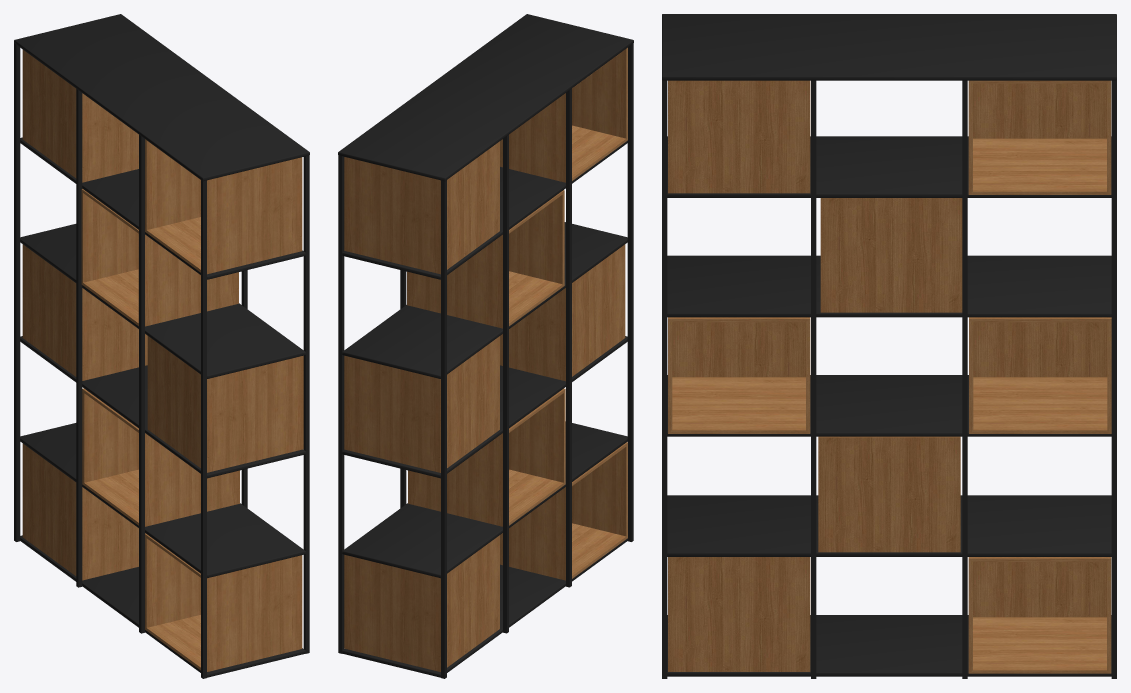
Rendered from rack1.FBX.
3 renders of one model, left to right at view 1: azimuth 30°, elevation 25°; view 2: azimuth 150°, elevation 25°; view 3: azimuth 270°, elevation 25°, orthographic. The views are drawn at different scales.
Visible parts, largest first — view 1: rack1; view 2: rack1; view 3: rack1.
Boxes of the visible parts, box(x1,y1,x2,y2) form: rack1: box(14, 14, 309, 678); rack1: box(338, 14, 633, 678); rack1: box(662, 14, 1116, 678).
Bounding box in the file's own units: 22.32 × 68.19 × 99.68.
Materials: 1 (1 with a texture image).
